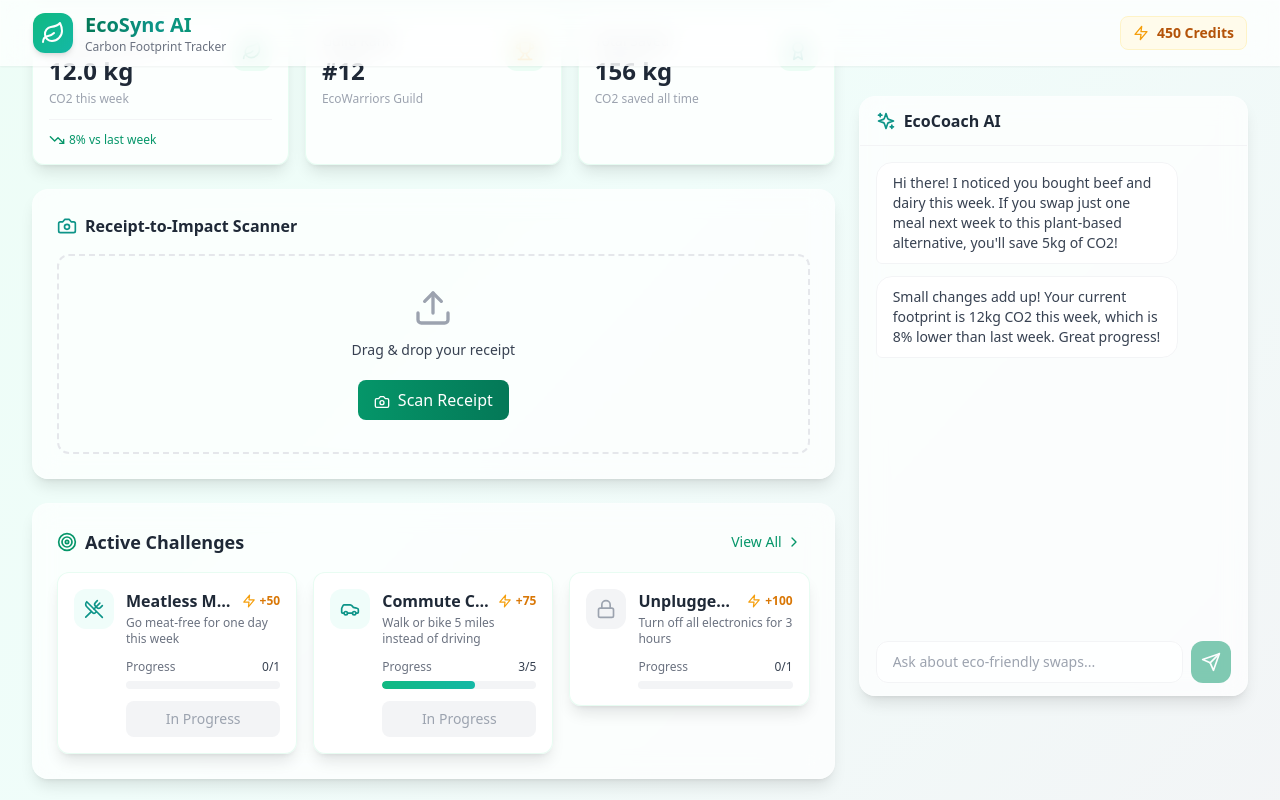
Test: Receipt Scanner Interaction › shows loading state when scan button is clicked
The width and height of the screenshot is (1280, 800).
(page scrolled)
What coordinates should you click on to do the following:
click the button with test id "scan-button"
I would click on:
 (433, 400)
Its box is [358,380,509,420].
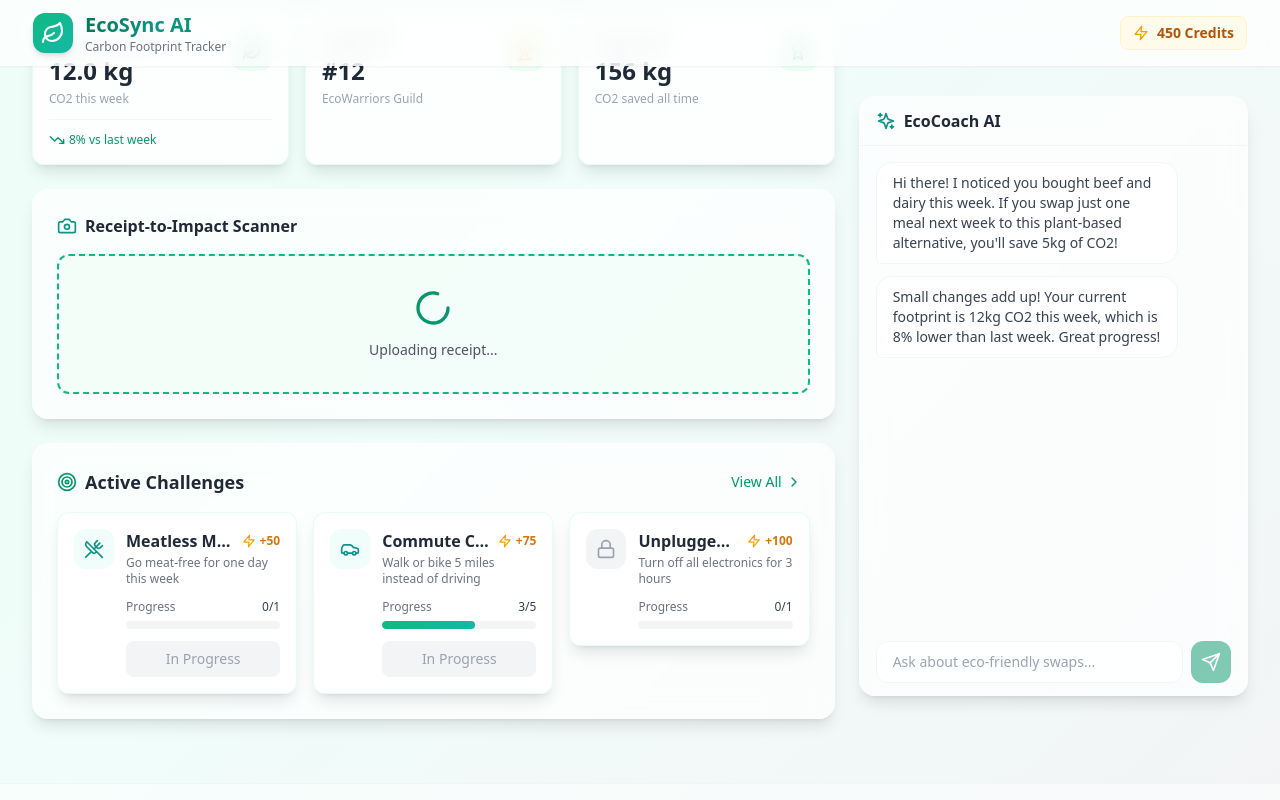
Check: the icon with test id "loading-spinner" is shown, box [413,288,453,328]
